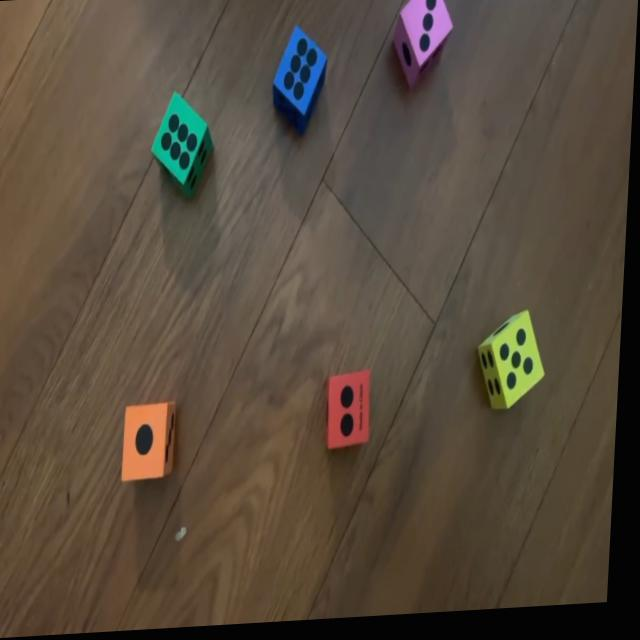blue_block: (269, 26, 328, 145)
red_block: (325, 372, 378, 453)
